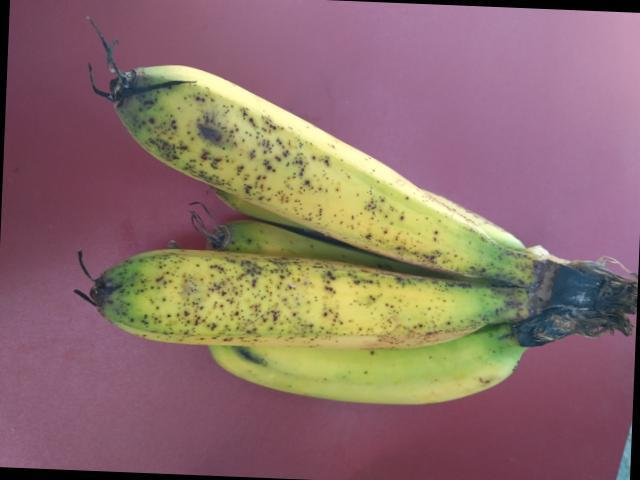ripe: (92, 44, 523, 299), (59, 242, 520, 358)
